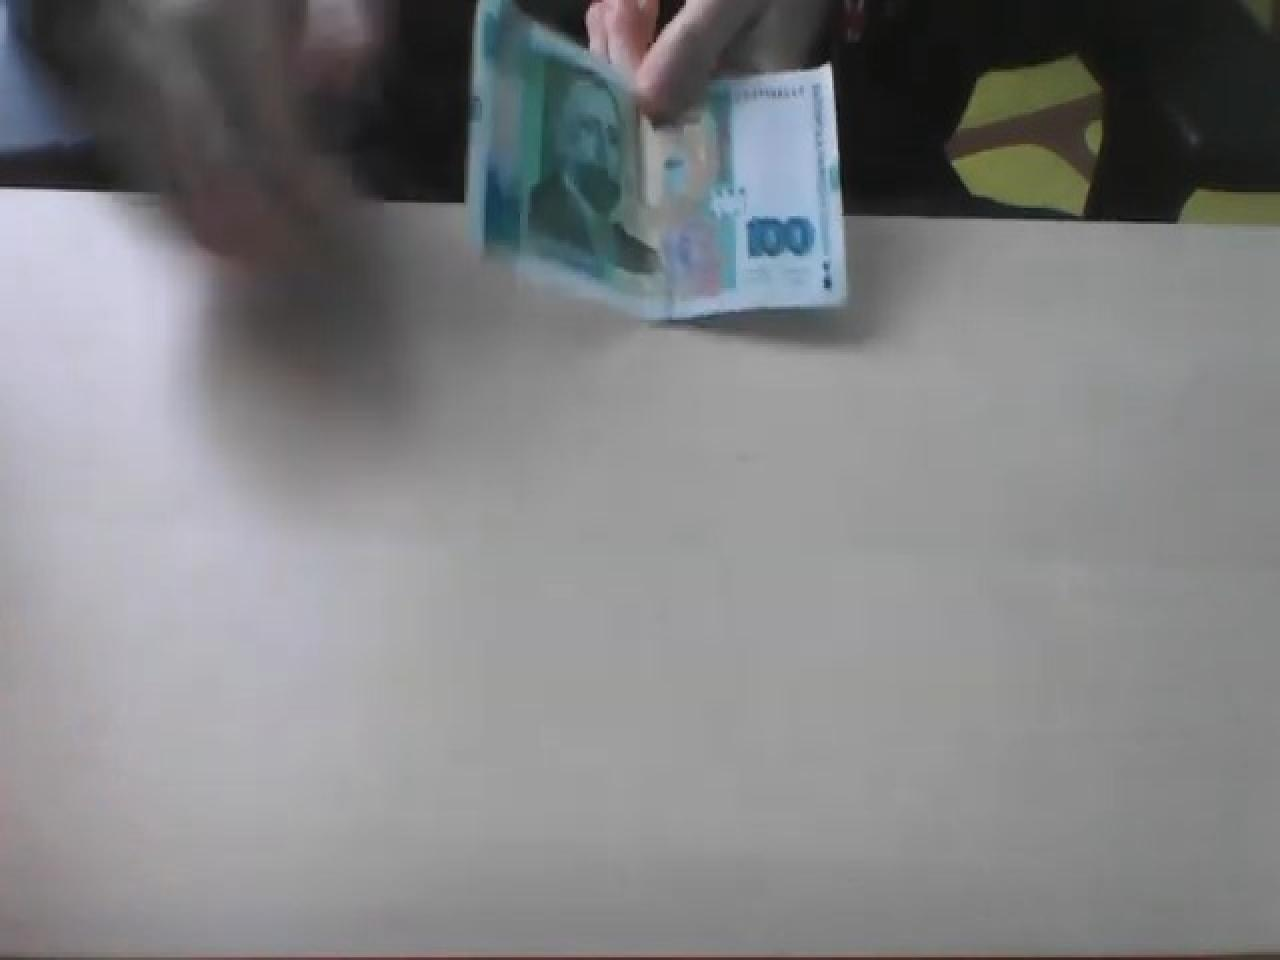100leva: (462, 0, 848, 325), (744, 211, 816, 261)
